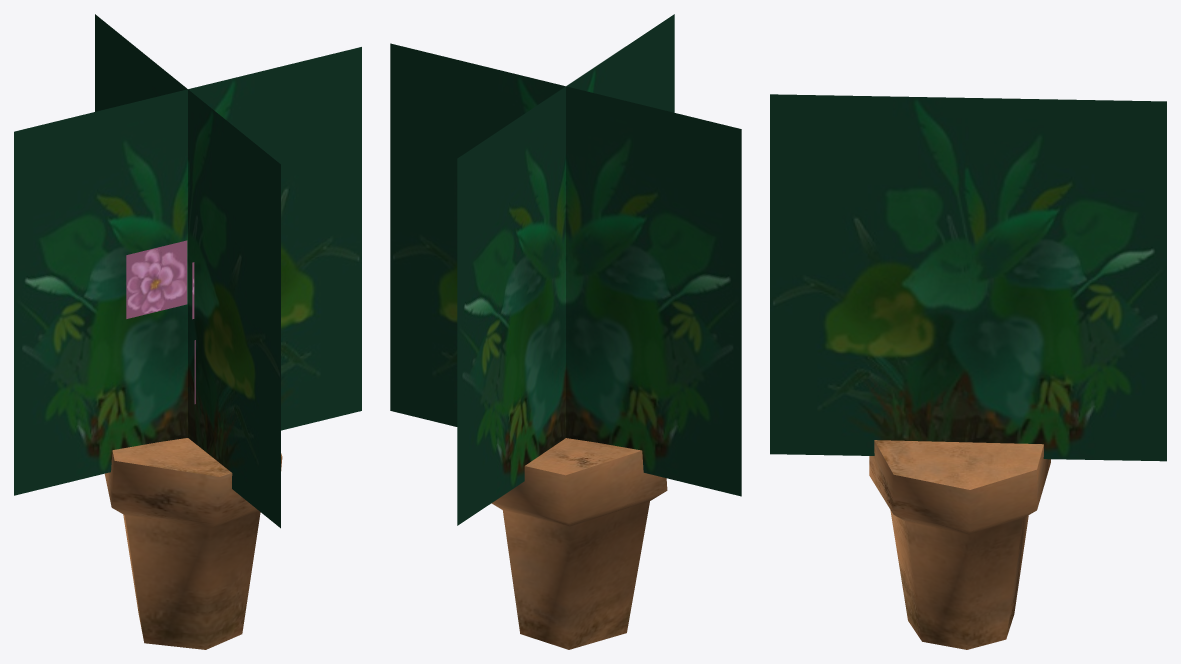
Rendered from FlowerPot1.fbx.
The picture shows the model from 3 angles, left to right: view 1: azimuth 30°, elevation 25°; view 2: azimuth 150°, elevation 25°; view 3: azimuth 270°, elevation 25°; orthographic projection. The views are drawn at different scales.
Parts seen in each view (by area): view 1: plant1, plant2, pot1, flower3; view 2: plant1, plant2, pot1; view 3: plant2, pot1.
Boxes of the visible parts, x1,y1,x2,y2 form: plant1: (14,47,361,495); plant2: (95,14,280,528); pot1: (104,438,282,649); flower3: (126,240,187,318); plant1: (390,43,741,496); plant2: (457,14,674,525); pot1: (491,438,667,649); plant2: (770,94,1166,461); pot1: (869,440,1050,649).
Bounding box in the file's own units: 212 × 311 × 211.
2 materials, 2 textured.
